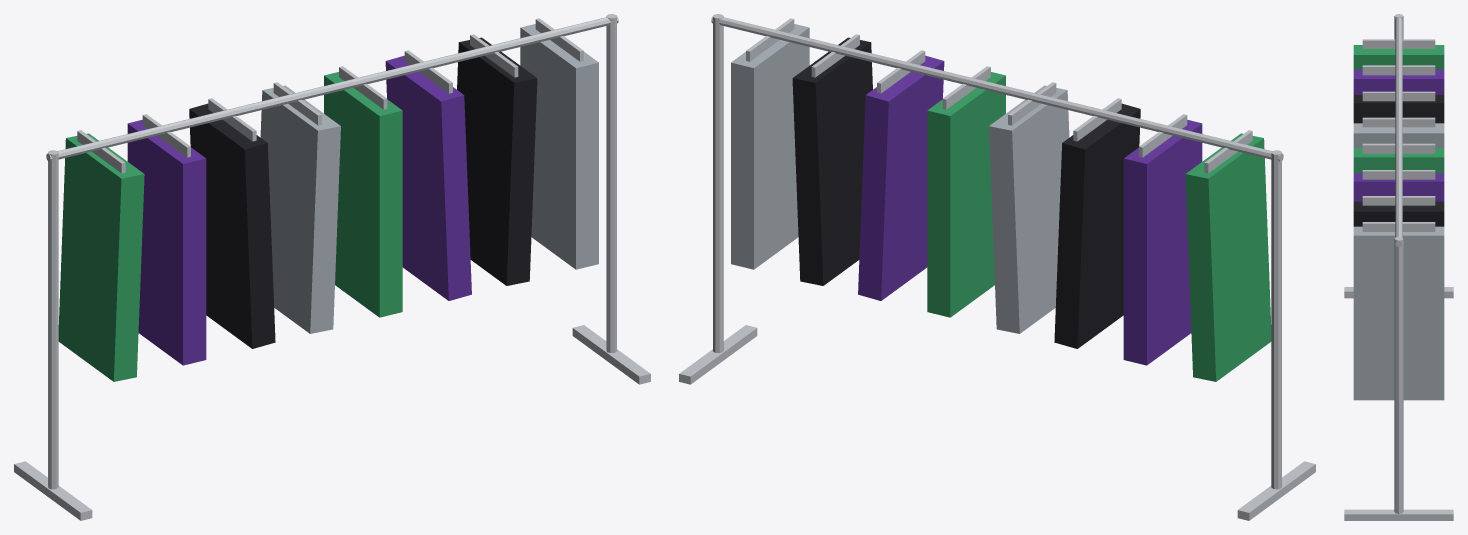
Rendered from rack_monsters.glb.
3 renders of one model, left to right at view 1: azimuth 30°, elevation 25°; view 2: azimuth 150°, elevation 25°; view 3: azimuth 270°, elevation 25°, orthographic. The views are drawn at different scales.
Parts seen in each view (by area): view 1: costume, post_rack_chrome, bar_rack_chrome, hanger_rack_chrome, foot_rack_chrome; view 2: costume, post_rack_chrome, bar_rack_chrome, hanger_rack_chrome, foot_rack_chrome; view 3: costume, hanger_rack_chrome, post_rack_chrome, bar_rack_chrome, foot_rack_chrome.
Boxes of the visible parts, x1,y1,x2,y2 form: costume: (58,24,598,381); post_rack_chrome: (48,14,616,489); bar_rack_chrome: (46,15,618,161); hanger_rack_chrome: (77,18,583,173); foot_rack_chrome: (14,325,650,520); costume: (731,24,1271,381); post_rack_chrome: (713,14,1281,489); bar_rack_chrome: (711,15,1283,161); hanger_rack_chrome: (746,18,1252,173); foot_rack_chrome: (679,325,1315,520); costume: (1353,45,1444,400); hanger_rack_chrome: (1362,39,1435,231); post_rack_chrome: (1394,14,1403,513); bar_rack_chrome: (1395,18,1402,246); foot_rack_chrome: (1344,287,1453,520).
Bounding box in the file's own units: 2.96 × 1.7 × 0.6.
